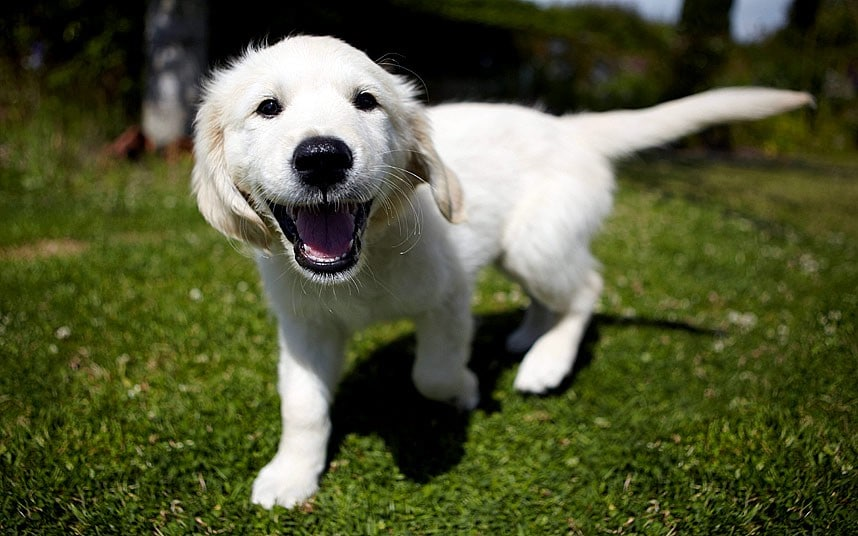tail: (574, 82, 816, 163)
